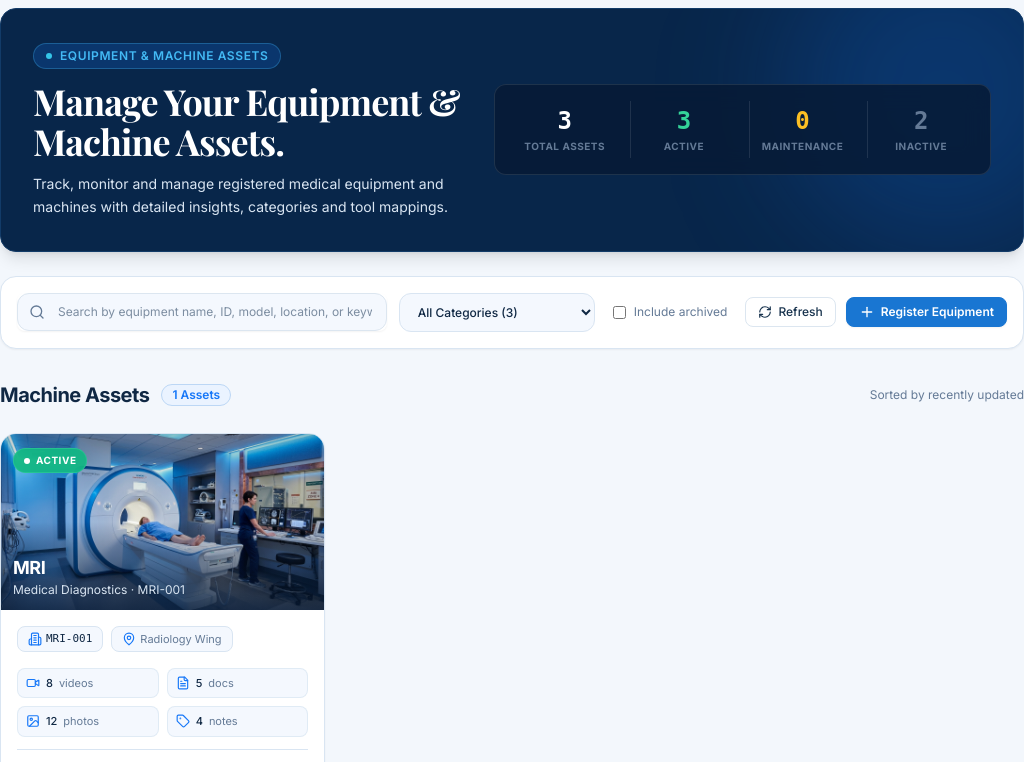
Machine deletion flow › shows active equipment by default and keeps archived records available on demand
Check: the heading "MRI" is shown, box [13,557,45,578]
Check: the heading "Demo Machine A (Lathe)" is not shown
Click the checkbox named "Show inactive equipment" at (619, 312), box [613,306,626,318]
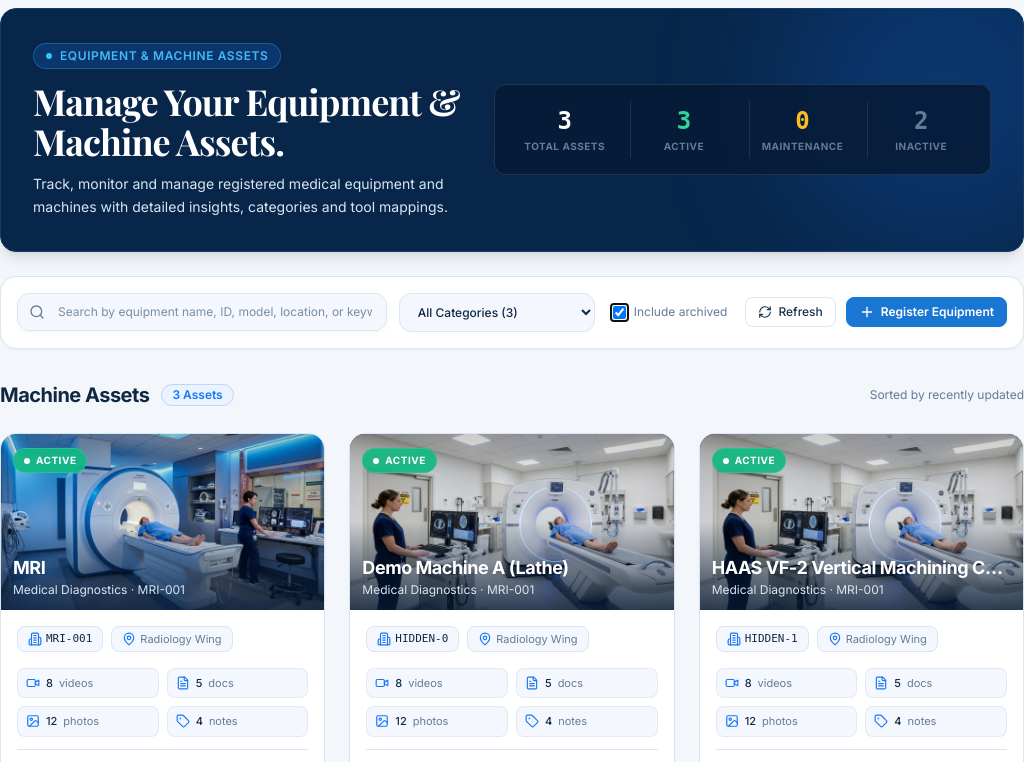
Check: the heading "Demo Machine A (Lathe)" is shown, box [362,557,568,578]
Check: the heading "HAAS VF-2 Vertical Machining Center" is shown, box [712,557,1011,580]
